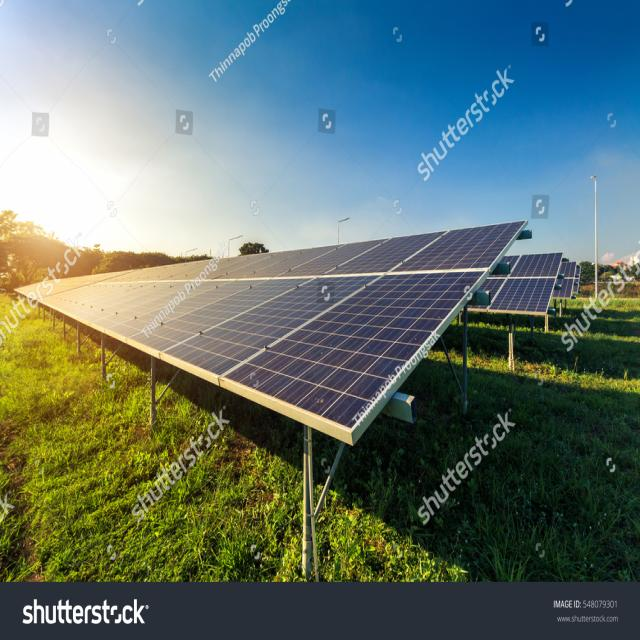clean-solar-panel: (13, 221, 526, 444)
